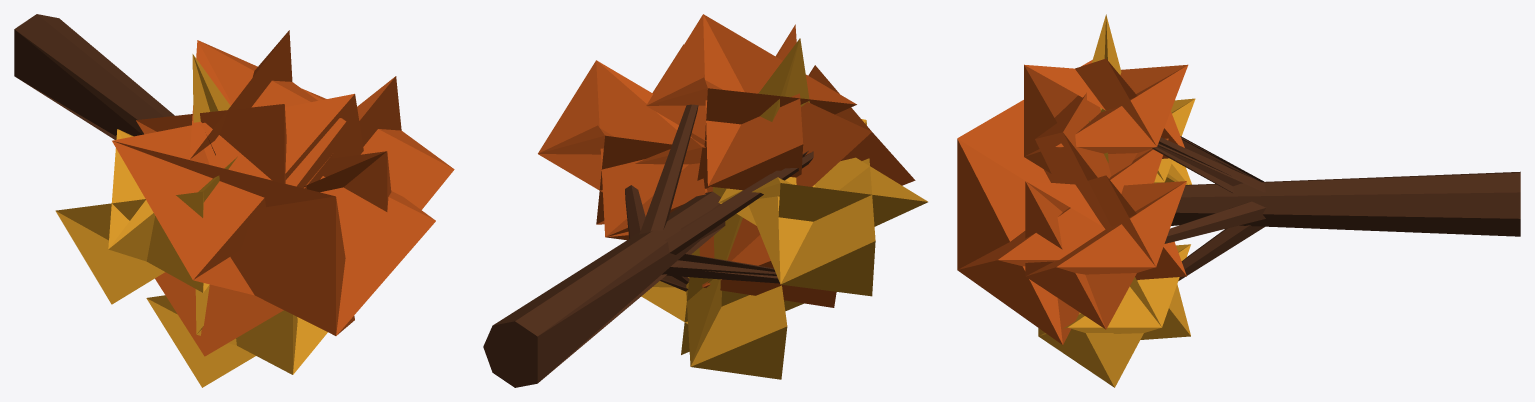
The model's file is autumn_tree_lowpoly.obj.
The picture shows the model from 3 angles, left to right: view 1: azimuth 30°, elevation 25°; view 2: azimuth 150°, elevation 25°; view 3: azimuth 270°, elevation 25°; orthographic projection. The views are drawn at different scales.
Parts seen in each view (by area): view 1: AutumnTree; view 2: AutumnTree; view 3: AutumnTree.
Boxes of the visible parts, x1,y1,x2,y2 form: AutumnTree: (14, 14, 454, 387); AutumnTree: (483, 14, 927, 387); AutumnTree: (957, 14, 1520, 387).
Bounding box in the file's own units: 2.15 × 2.05 × 3.26.
